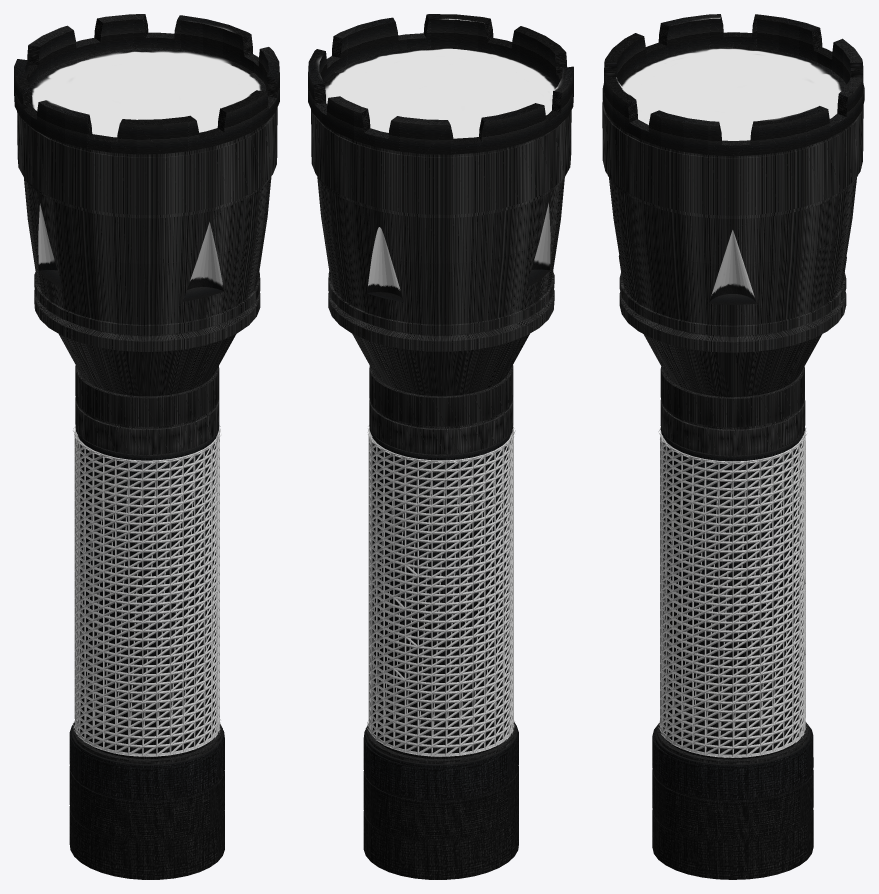
File: Fonaric.fbx
3 views of the same model, side by side, from view 1: azimuth 30°, elevation 25°; view 2: azimuth 150°, elevation 25°; view 3: azimuth 270°, elevation 25° (orthographic).
Parts seen in each view (by area): view 1: Fonaric; view 2: Fonaric; view 3: Fonaric.
Part boxes in pixels (x1,y1,x2,y2): Fonaric: (14,14,279,879); Fonaric: (308,14,573,879); Fonaric: (602,14,864,879).
Size of the model in its own units: 390 by 1248 by 382.
